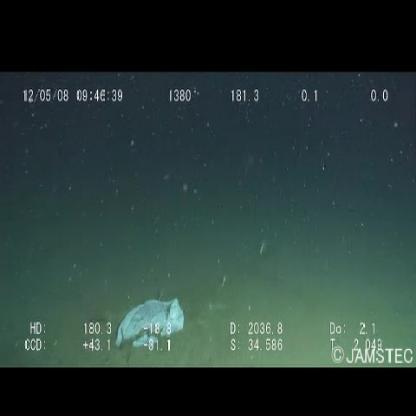Rác: (116, 299, 184, 349)
